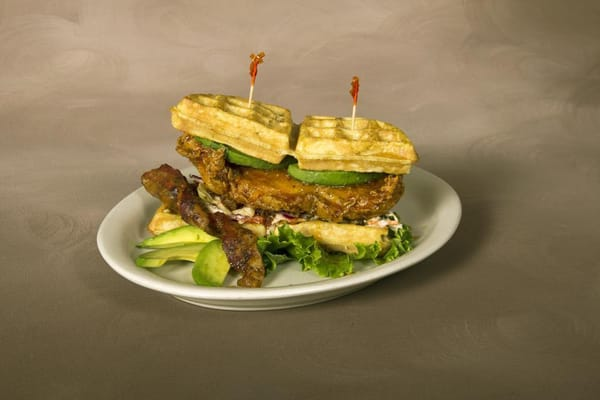soup: (285, 115, 419, 221), (170, 92, 295, 177)
